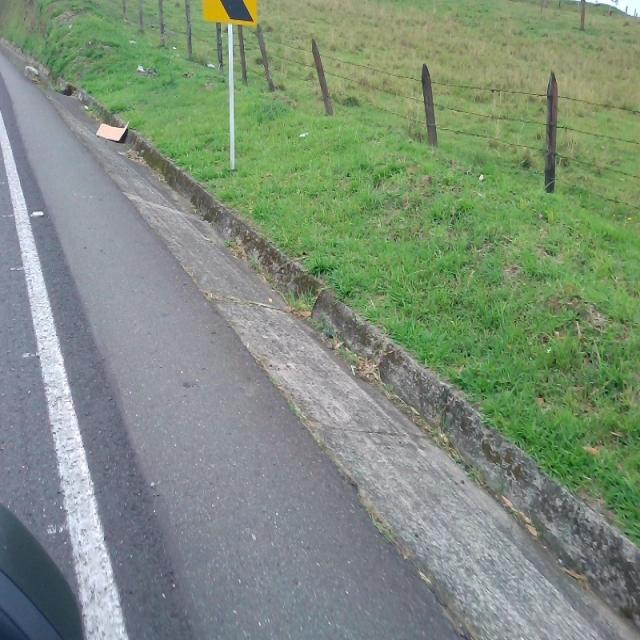DITCH: (1, 39, 638, 638)
